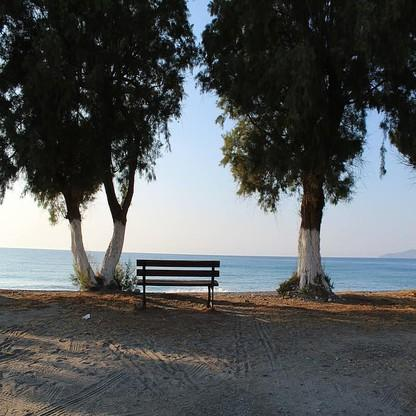obstacle: (121, 250, 230, 317)
